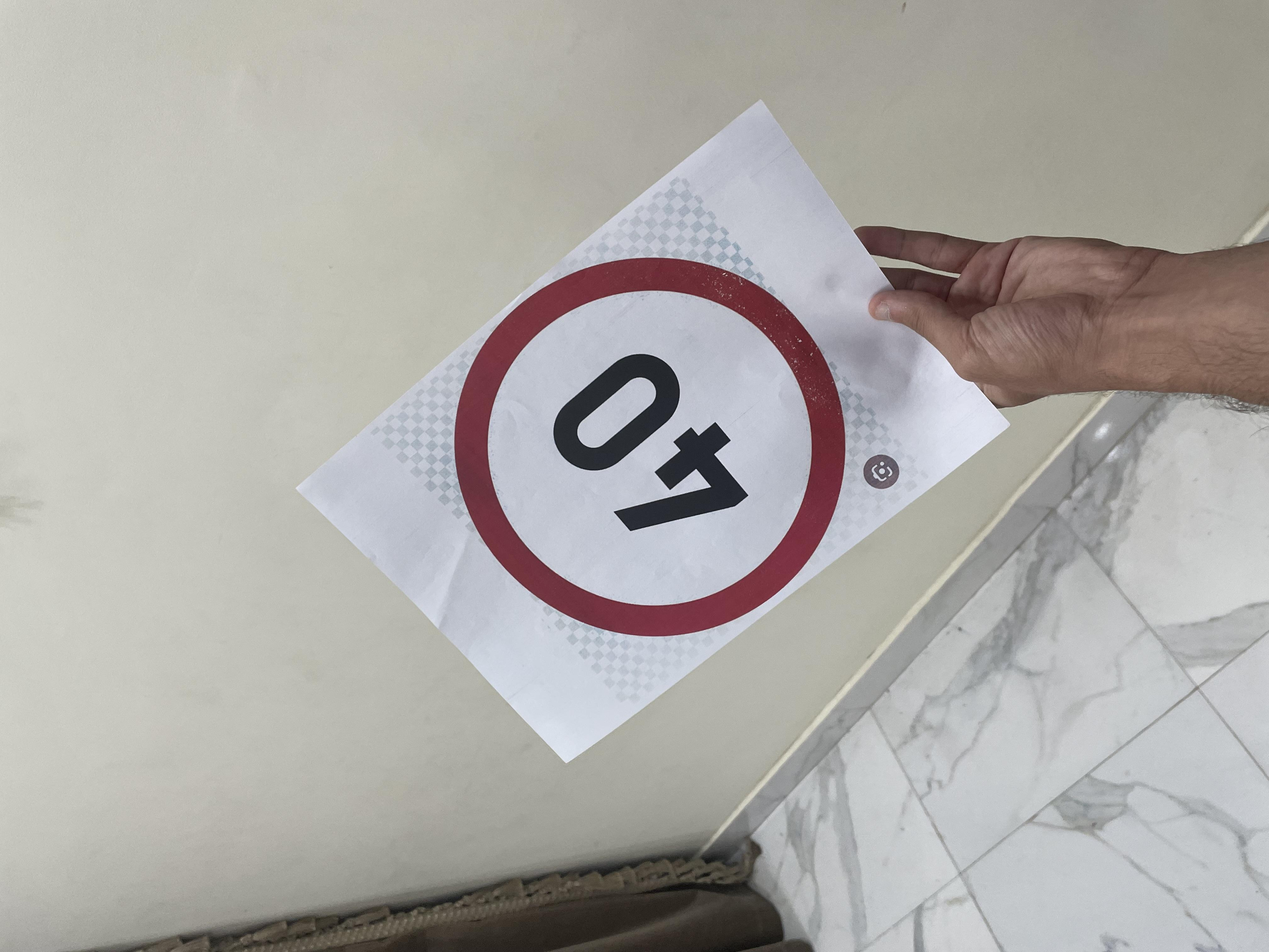40-Speed: (416, 348, 915, 632)
